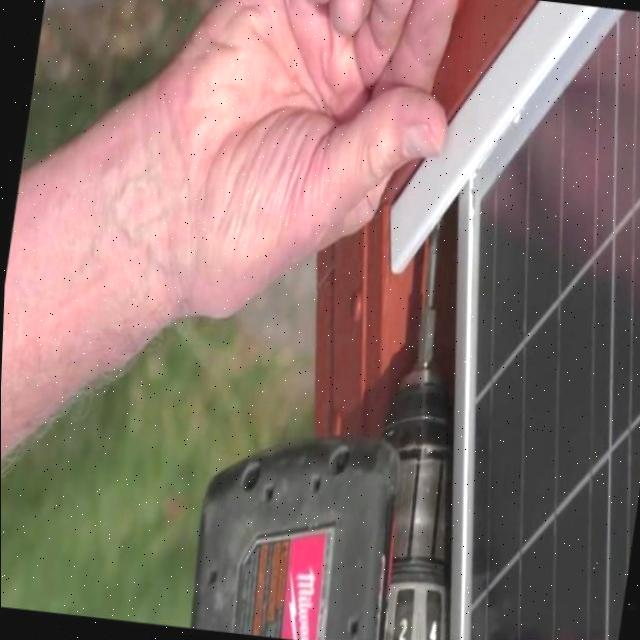Normal Solar Panel: (400, 0, 640, 640)
